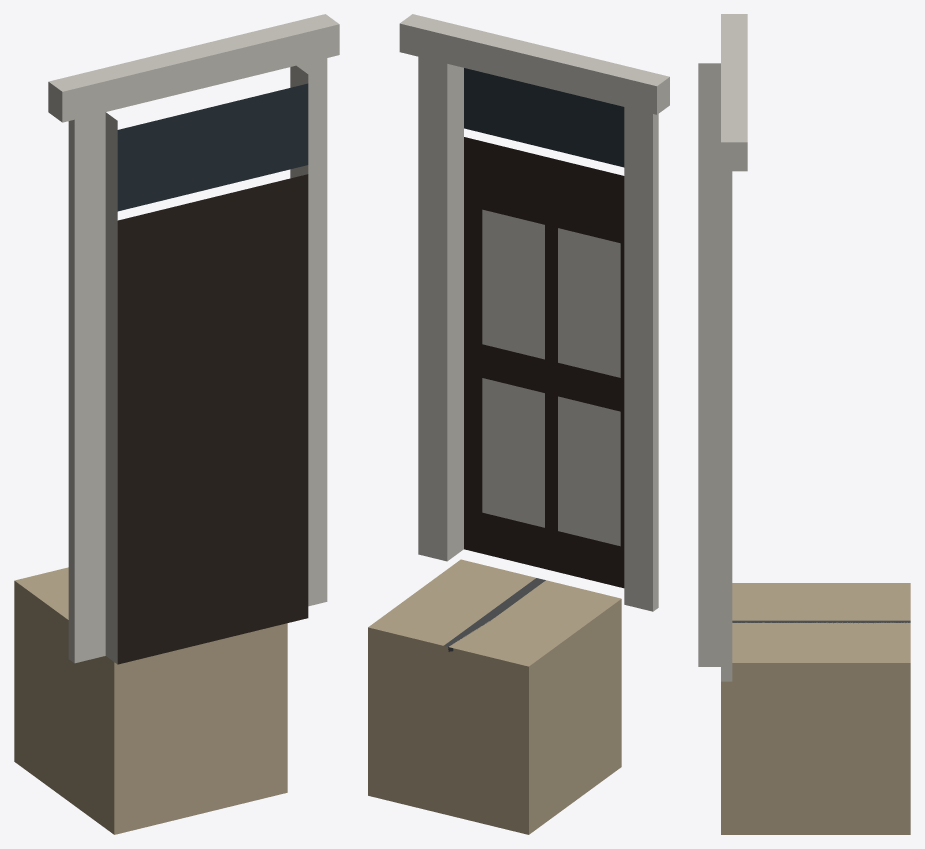
File: stoop.glb
3 renders of one model, left to right at view 1: azimuth 30°, elevation 25°; view 2: azimuth 150°, elevation 25°; view 3: azimuth 270°, elevation 25°, orthographic. The views are drawn at different scales.
Visible parts, largest first — view 1: door, cheek; view 2: door, cheek, rail; view 3: cheek, door, rail.
Boxes of the visible parts, bbox=[...] form: door: bbox=[48, 14, 339, 664]; cheek: bbox=[14, 567, 287, 834]; door: bbox=[399, 14, 669, 611]; cheek: bbox=[368, 559, 621, 834]; rail: bbox=[444, 578, 545, 651]; cheek: bbox=[721, 583, 910, 834]; door: bbox=[698, 14, 747, 681]; rail: bbox=[732, 620, 910, 623].
Bounding box in the file's own units: 1.6 × 4.17 × 1.12.
